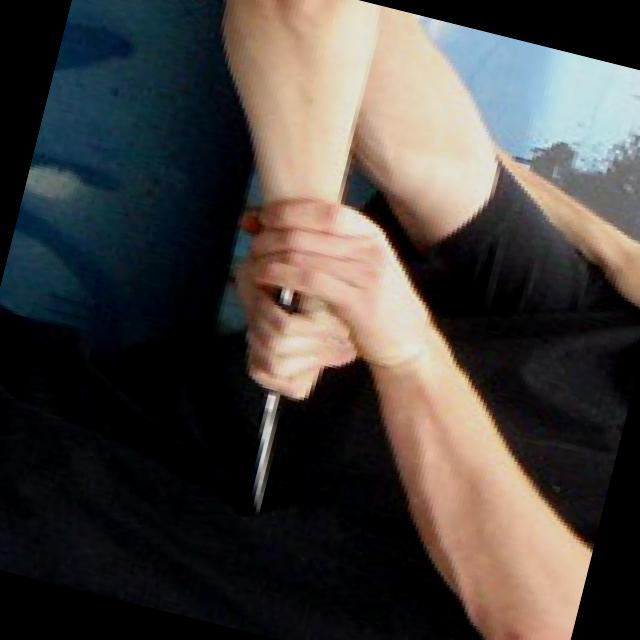knife: (194, 212, 364, 542)
